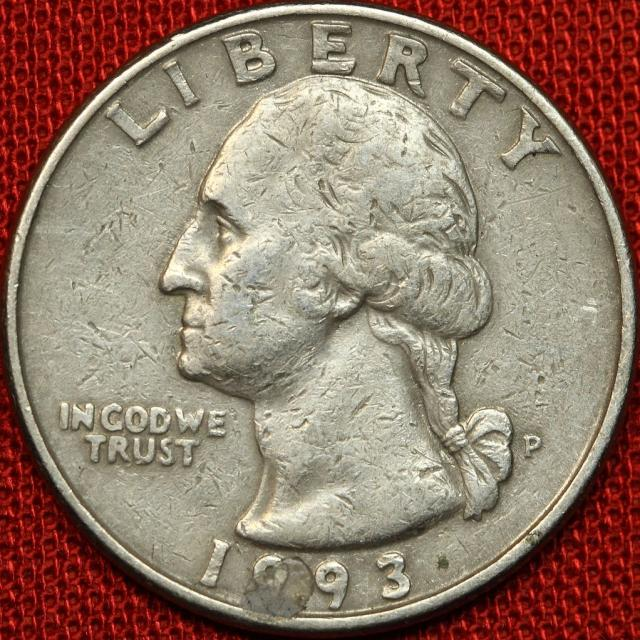Coin: (6, 5, 636, 635)
